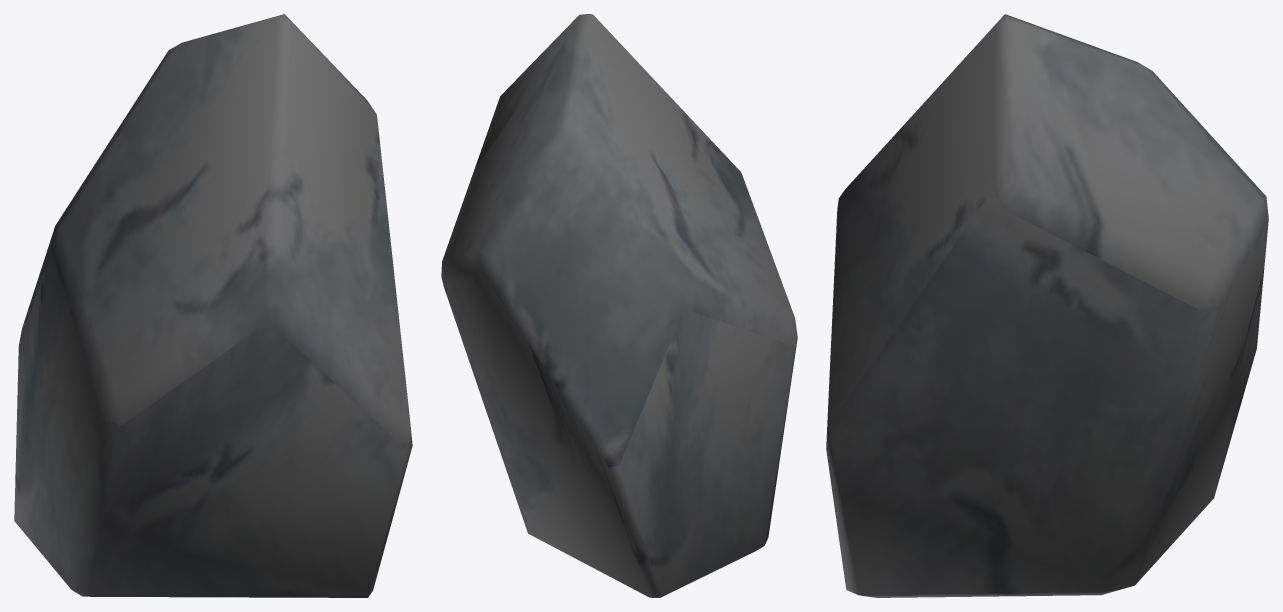
File: Pedra3.fbx
The picture shows the model from 3 angles, left to right: view 1: azimuth 30°, elevation 25°; view 2: azimuth 150°, elevation 25°; view 3: azimuth 270°, elevation 25°; orthographic projection. The views are drawn at different scales.
Visible parts, largest first — view 1: Pedra3; view 2: Pedra3; view 3: Pedra3.
Boxes of the visible parts, x1,y1,x2,y2 form: Pedra3: (14,14,412,597); Pedra3: (441,14,797,597); Pedra3: (826,14,1268,597).
Bounding box in the file's own units: 63.4 × 109 × 75.57.
